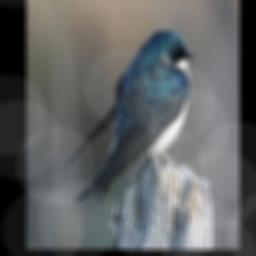Swallow: (58, 28, 193, 203)
